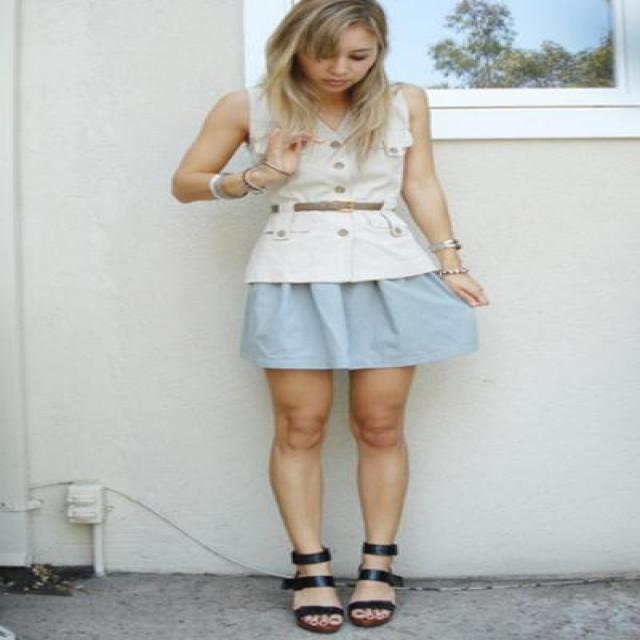shirt: (222, 78, 437, 281)
shoe: (288, 547, 402, 607)
skirt: (226, 275, 474, 368)
